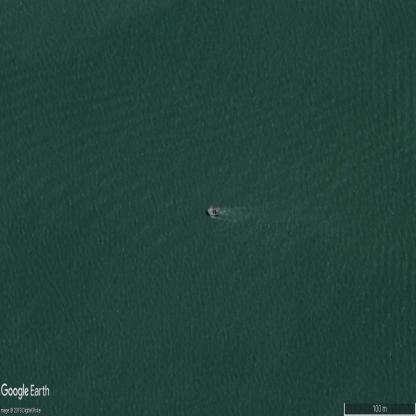ship: (207, 208, 219, 215)
